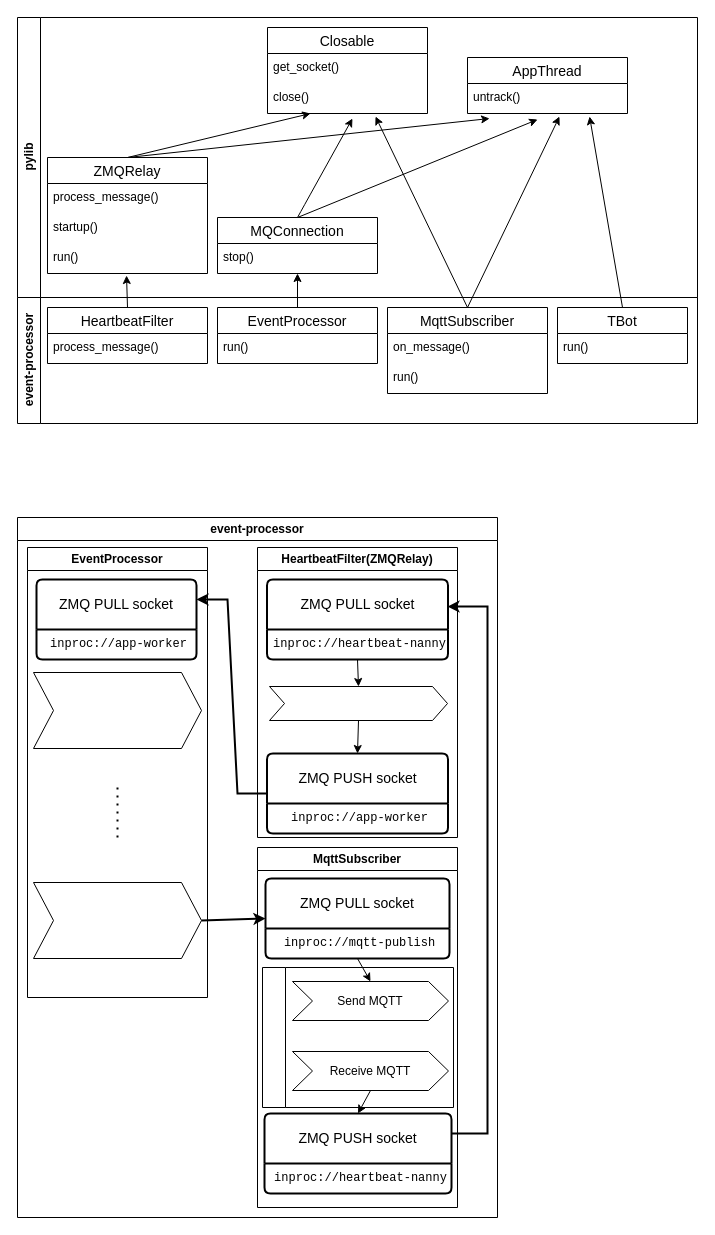
This 715x1235 diagram has some shape labels left out. Here are the shapes that lost their labels. From the top down, the centre of each, then its label:
At point (117, 710): "Process MQTT message and make trigger decision".
At point (358, 703): "Update device heartbeat".
At point (117, 920): "Send MQTT message via ZMQ PUSH socket to inproc://mqtt-publish".
At point (358, 1037): "paho-mqtt".
